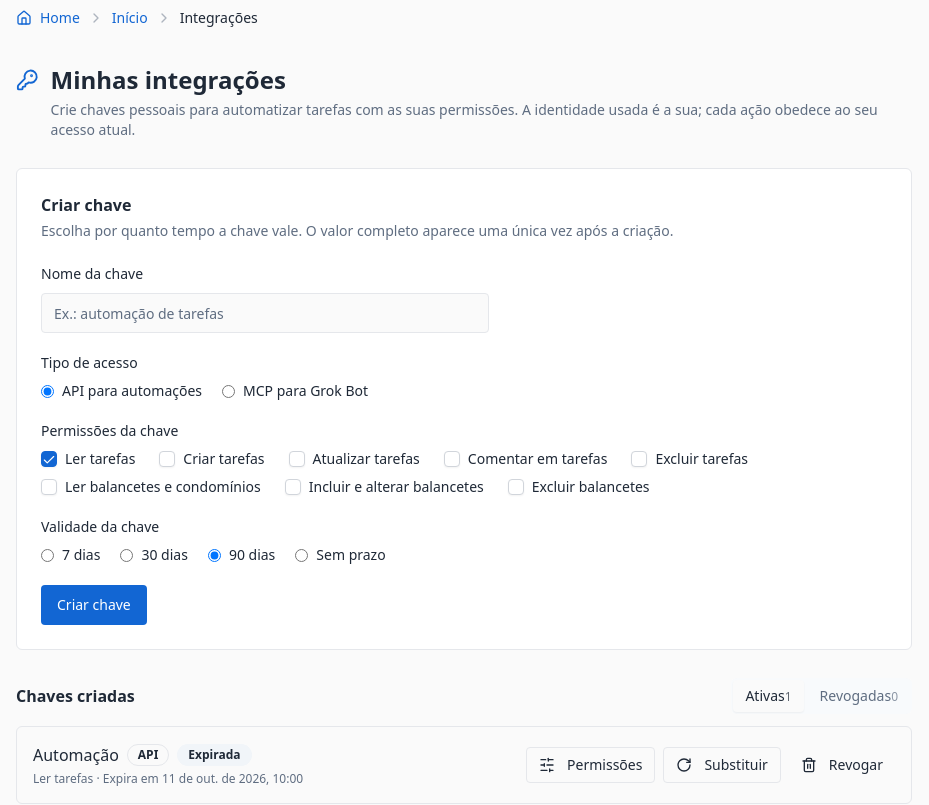
Test: personal integration keys › key lifetime › preselects the same lifetime when replacing a 7-day key
What coordinates should you click on to do the following:
click the button "Substituir"
I would click on:
 (722, 765)
Its box is [663,747,781,783].
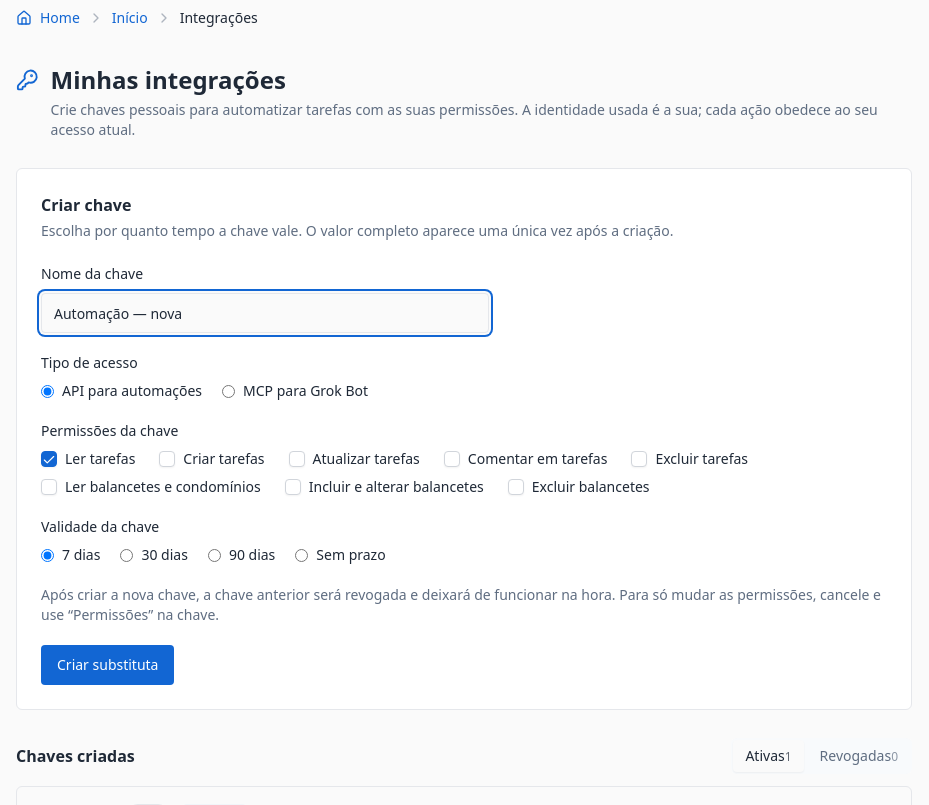
Expected: the radio button labelled "7 dias" is checked, [41,548,54,562]
